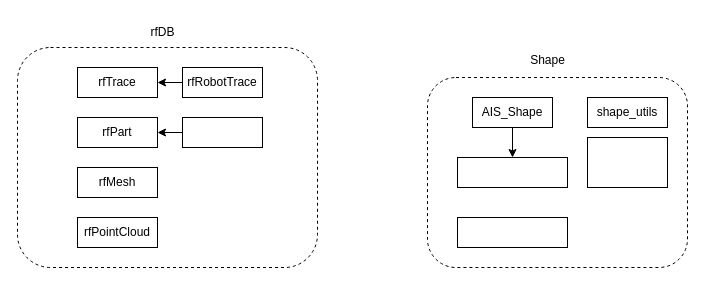
This 705x285 diagram has some shape labels left out. The shapes that lost their labels are listed below. From the top down, each one's centre as x and y in pixels, then its label:
At [222,132]: "rfAssembly".
At [512,172]: "bondingbox_utils".
At [627,162]: "builder: abassica arrow".
At [512,232]: "PointCloudShape".
